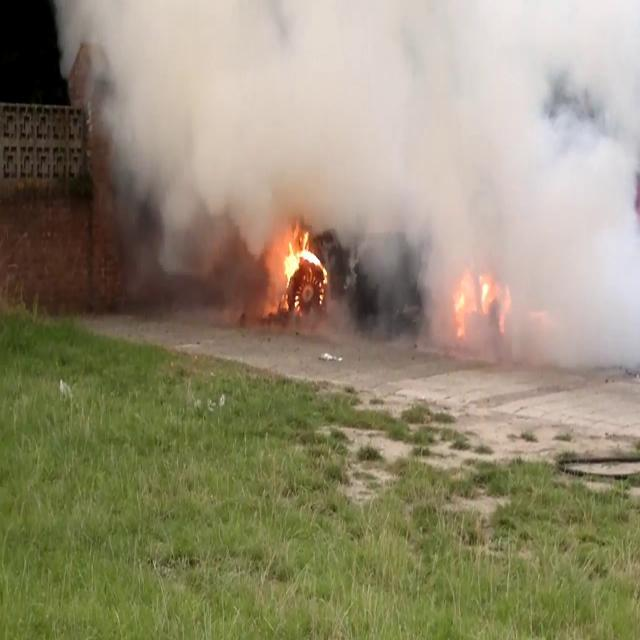Fire: (274, 219, 326, 307), (452, 260, 499, 330)
Smoke: (352, 0, 640, 362), (51, 0, 352, 270)
